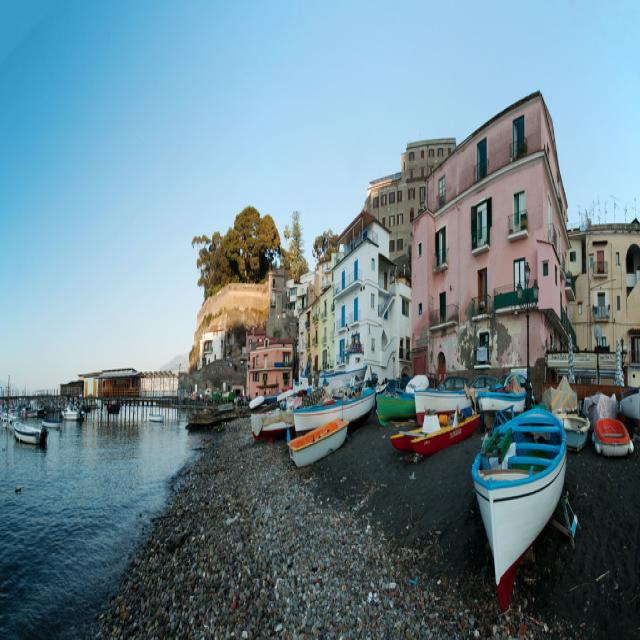Boat: (247, 359, 640, 611), (470, 382, 574, 554), (13, 419, 50, 447), (61, 404, 86, 423), (0, 411, 16, 434), (41, 418, 61, 433), (149, 410, 165, 424), (108, 403, 120, 414)
